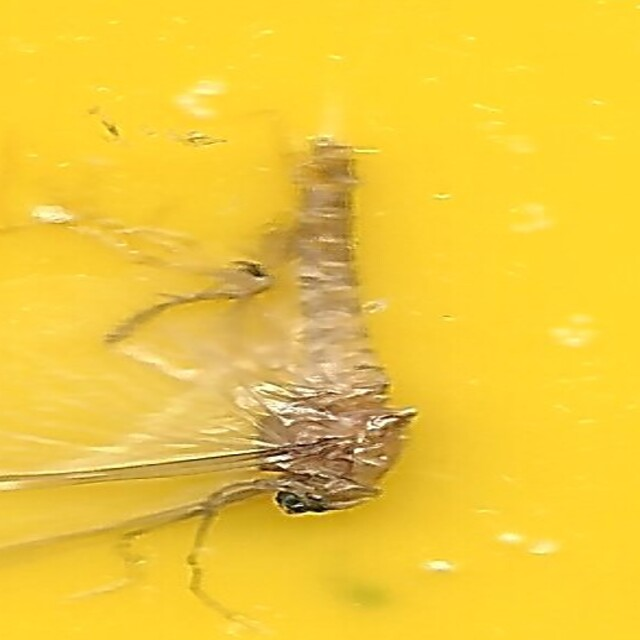Ephemeroptera: (218, 124, 422, 516)
